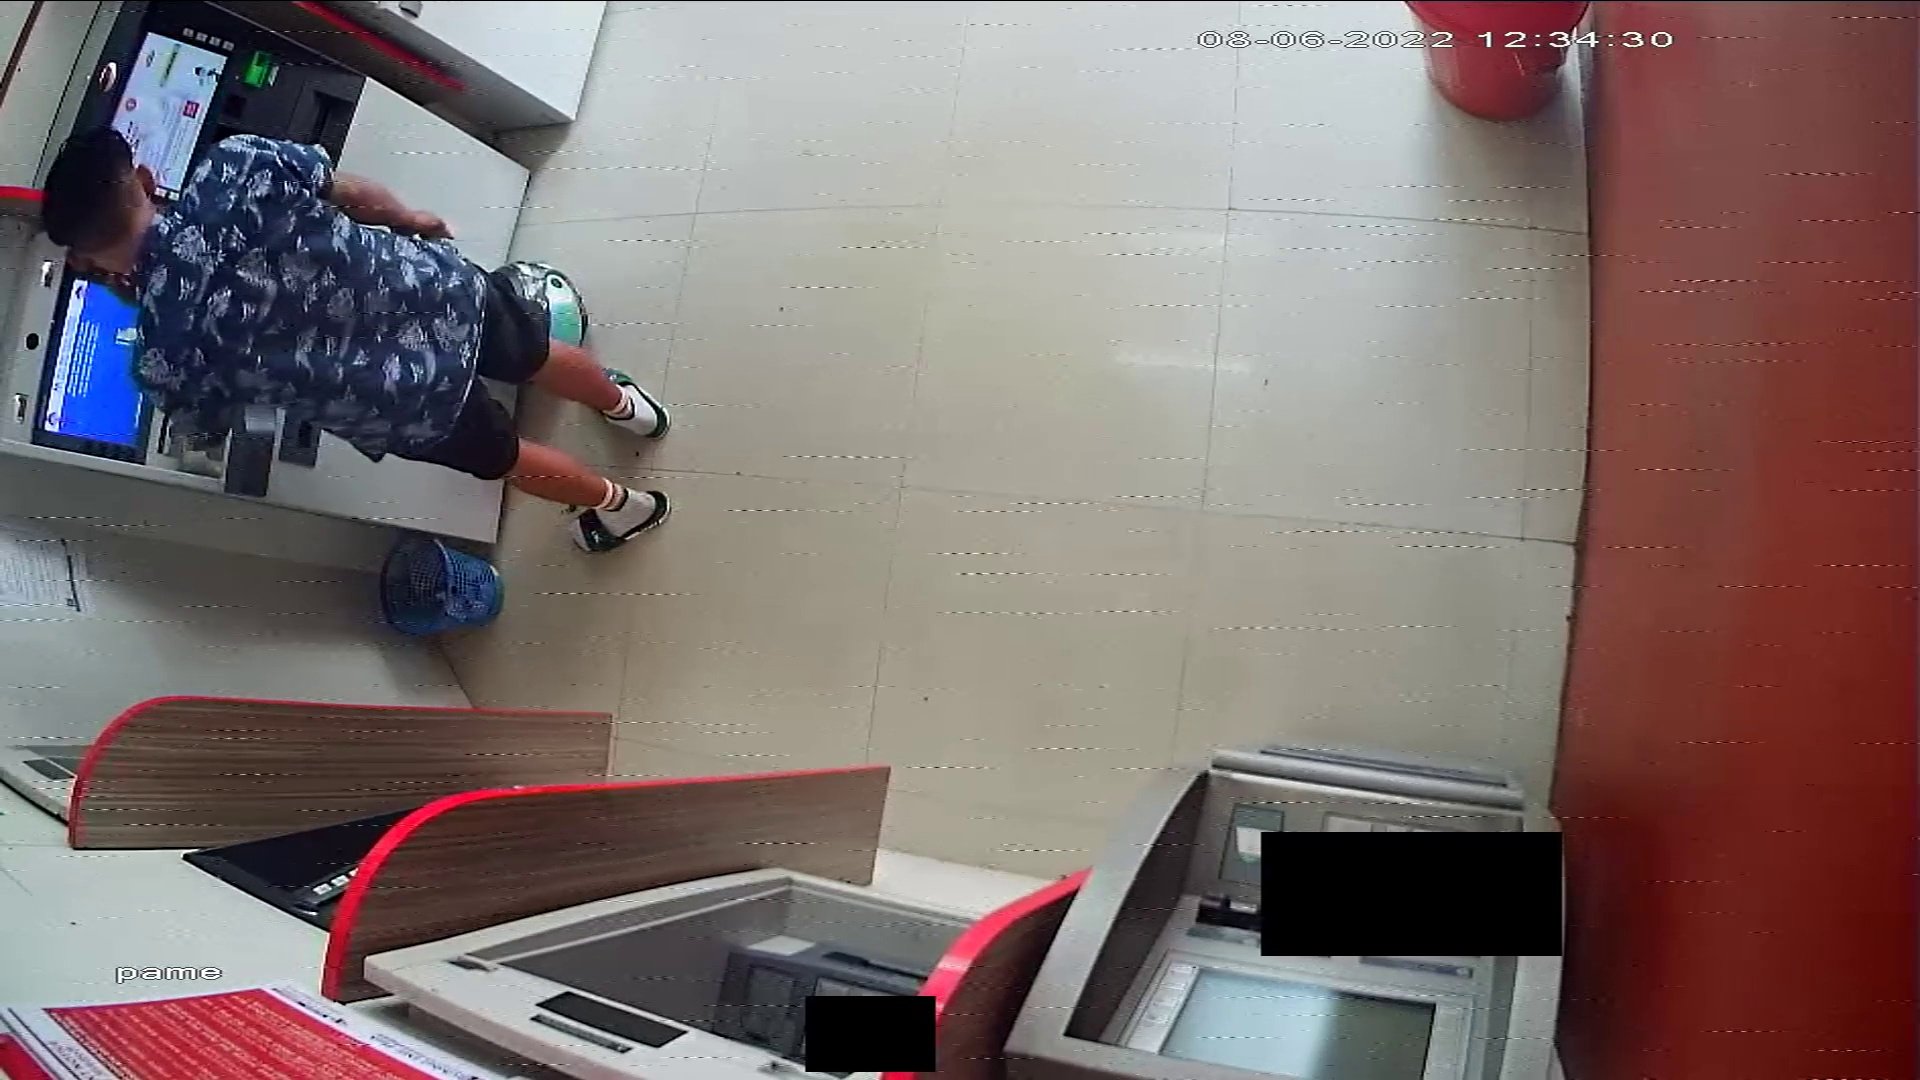helmet: (489, 255, 593, 346)
person: (31, 124, 671, 556)
